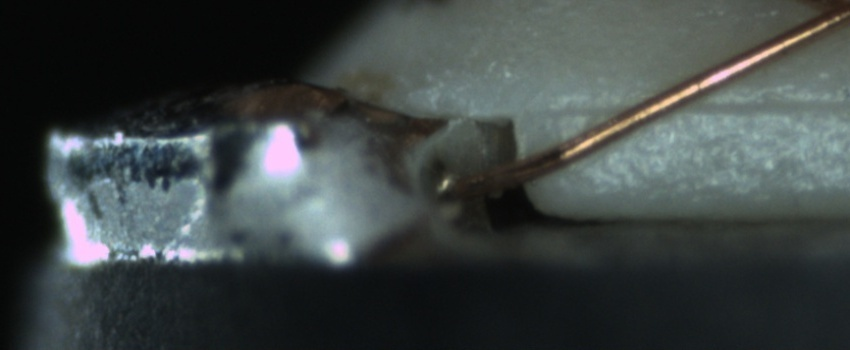CL: (800, 1, 850, 33)
DL: (556, 73, 844, 137)
